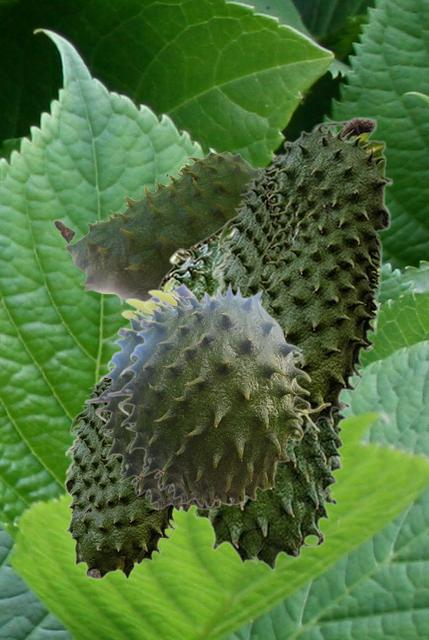guyabano: (155, 220, 351, 570), (209, 116, 392, 446), (106, 280, 331, 508), (53, 151, 259, 312), (84, 289, 231, 513), (63, 365, 178, 579)
